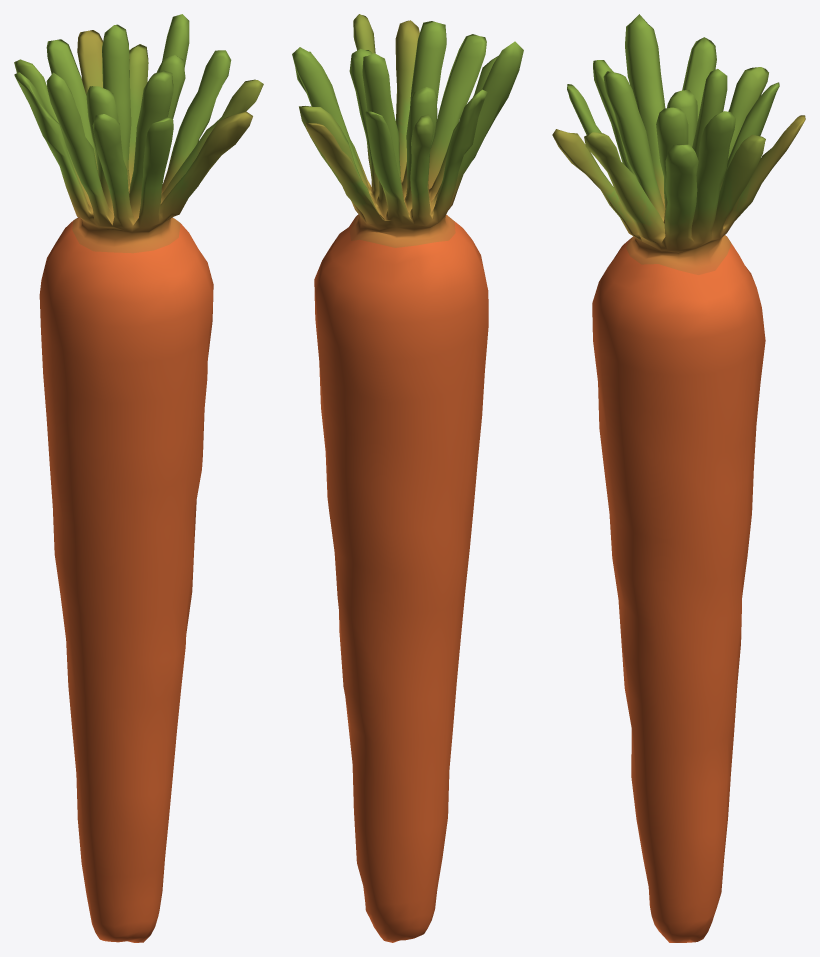
File: carrot.fbx
3 renders of one model, left to right at view 1: azimuth 30°, elevation 25°; view 2: azimuth 150°, elevation 25°; view 3: azimuth 270°, elevation 25°, orthographic. The views are drawn at different scales.
Parts seen in each view (by area): view 1: Cylinder; view 2: Cylinder; view 3: Cylinder.
Boxes of the visible parts, bbox=[...] form: Cylinder: bbox=[14, 14, 263, 942]; Cylinder: bbox=[292, 14, 523, 942]; Cylinder: bbox=[552, 14, 805, 942].
Size of the model in its own units: 98.51 by 422 by 110.
